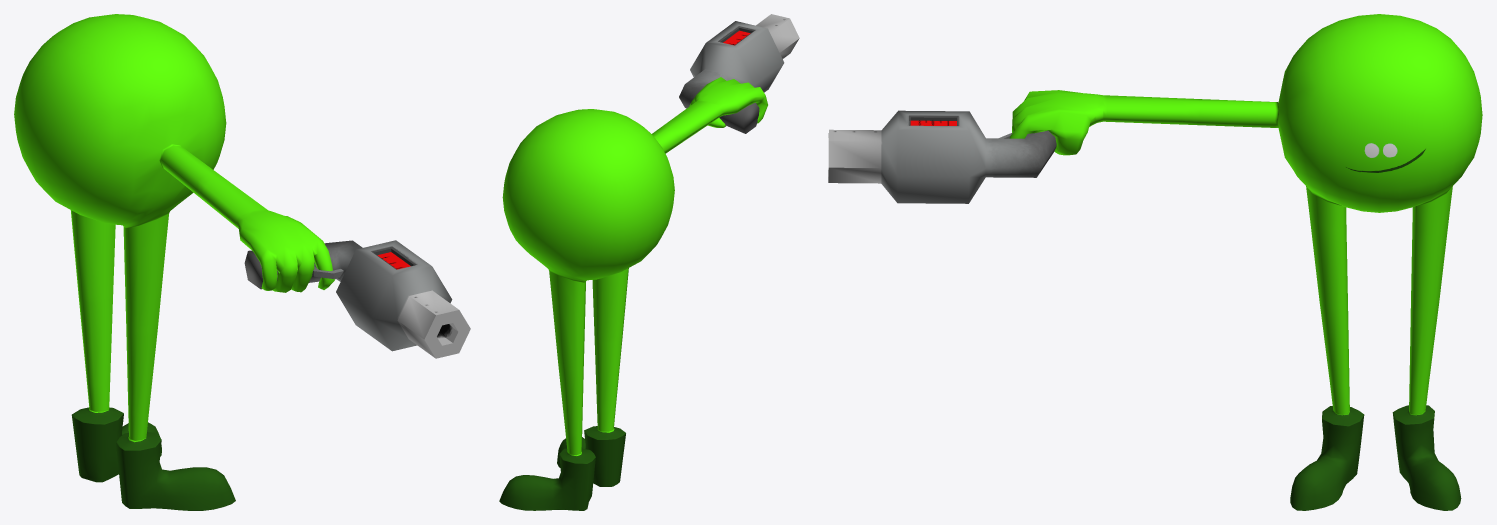
The model's file is pea shooter.fbx.
3 views of the same model, side by side, from view 1: azimuth 30°, elevation 25°; view 2: azimuth 150°, elevation 25°; view 3: azimuth 270°, elevation 25° (orthographic). The views are drawn at different scales.
Visible parts, largest first — view 1: pCube4; view 2: pCube4; view 3: pCube4.
Boxes of the visible parts, x1=… form: pCube4: x1=14, y1=14, x2=470, y2=510; pCube4: x1=499, y1=14, x2=799, y2=510; pCube4: x1=828, y1=14, x2=1482, y2=510.
Size of the model in its own units: 0.9698 by 2.42 by 3.17.
1 material, 1 textured.
